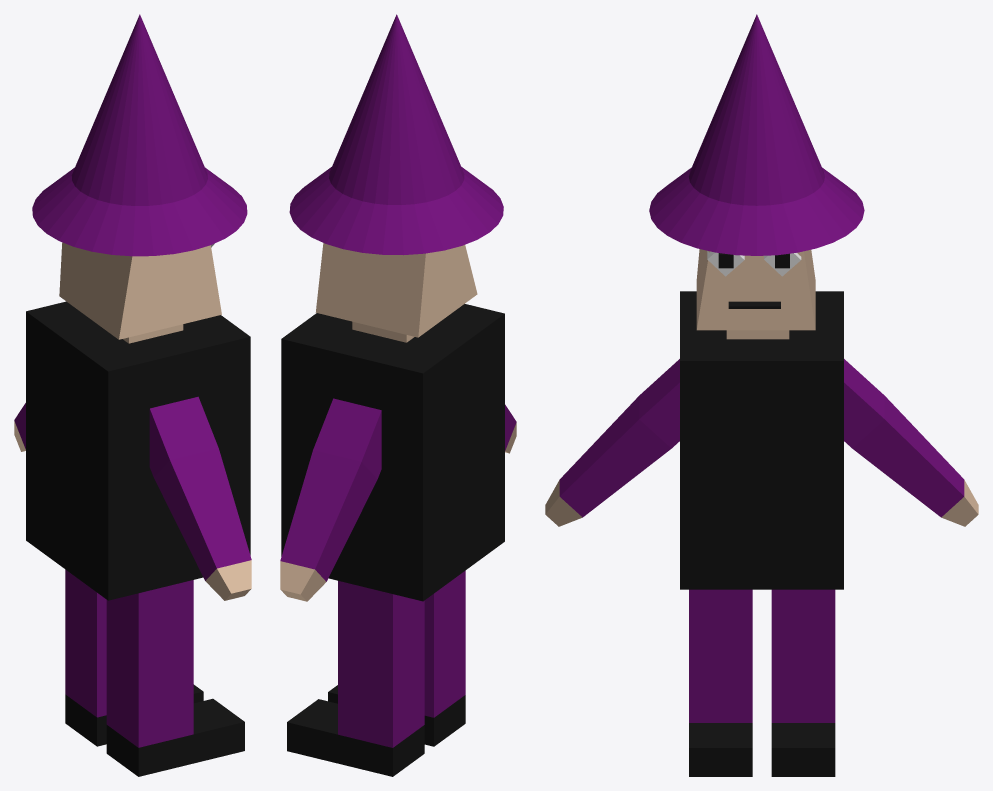
Rendered from player.glb.
3 renders of one model, left to right at view 1: azimuth 30°, elevation 25°; view 2: azimuth 150°, elevation 25°; view 3: azimuth 270°, elevation 25°, orthographic.
Parts seen in each view (by area): view 1: Player; view 2: Player; view 3: Player.
Boxes of the visible parts, x1,y1,x2,y2 form: Player: (14,14,251,776); Player: (280,14,516,776); Player: (545,14,978,776).
Size of the model in its own units: 3.62 by 13.52 by 7.29.
